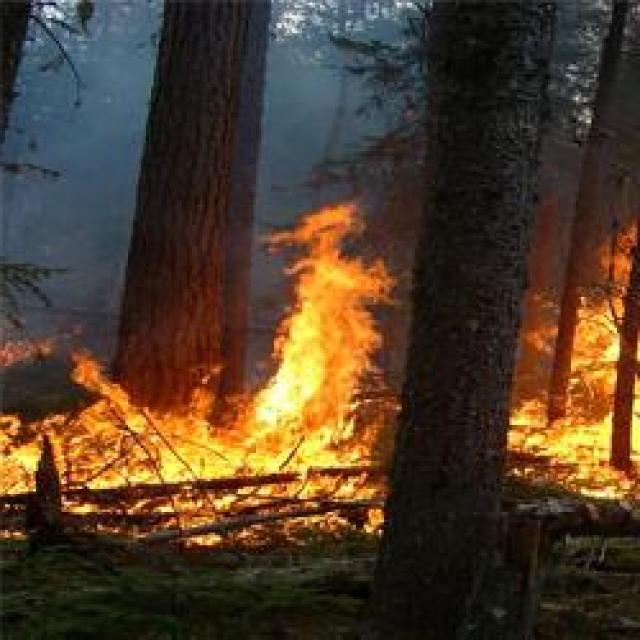fire: (272, 230, 384, 450), (507, 410, 627, 468), (1, 419, 44, 502)
smoke: (254, 58, 374, 156)
